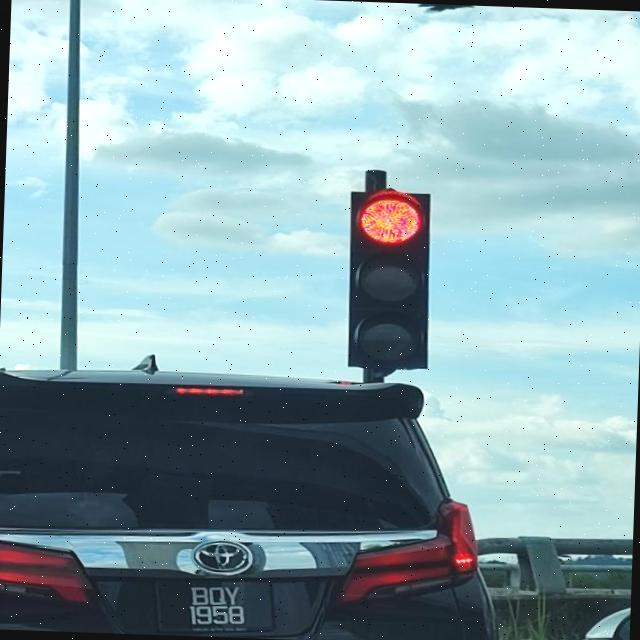red_light: (344, 188, 434, 370)
